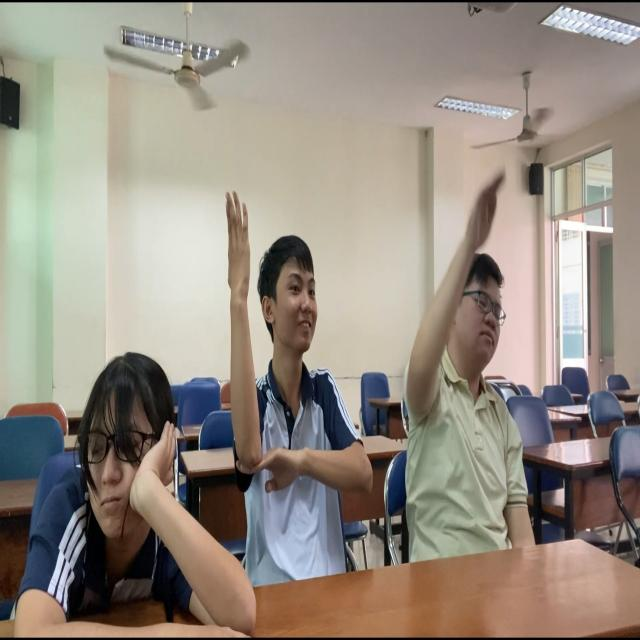raise_hand: (397, 112, 583, 607), (201, 148, 398, 602)
